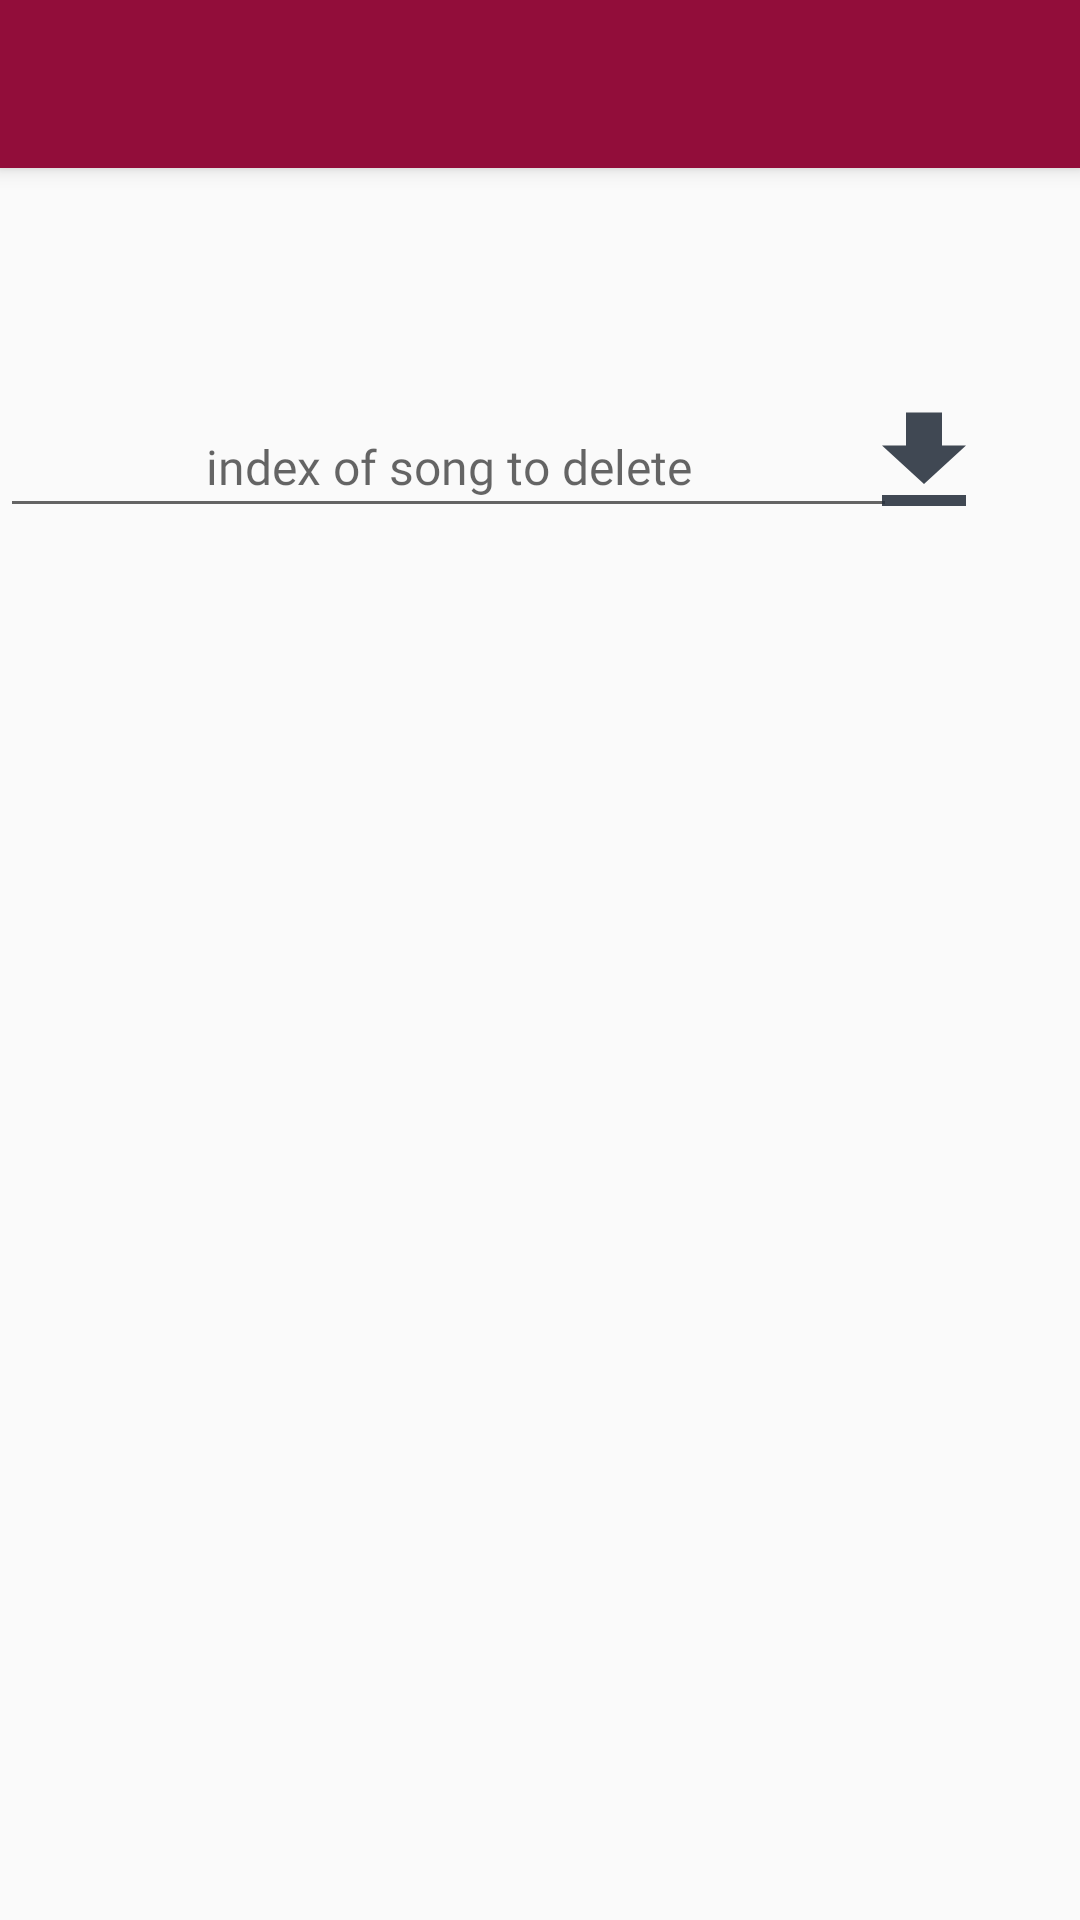

Icons on this 1080w x 1920h Android screen, each with the point to tap as (x=x, y=y):
download: (x=924, y=448)
